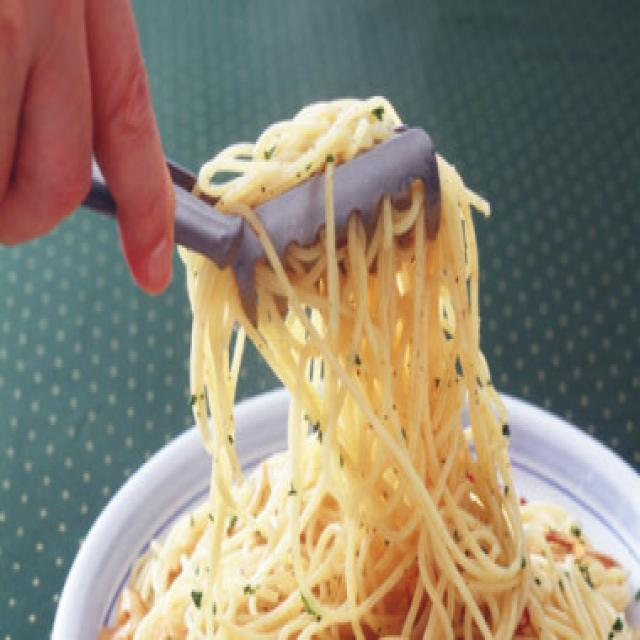Oil pasta: (214, 86, 534, 622)
